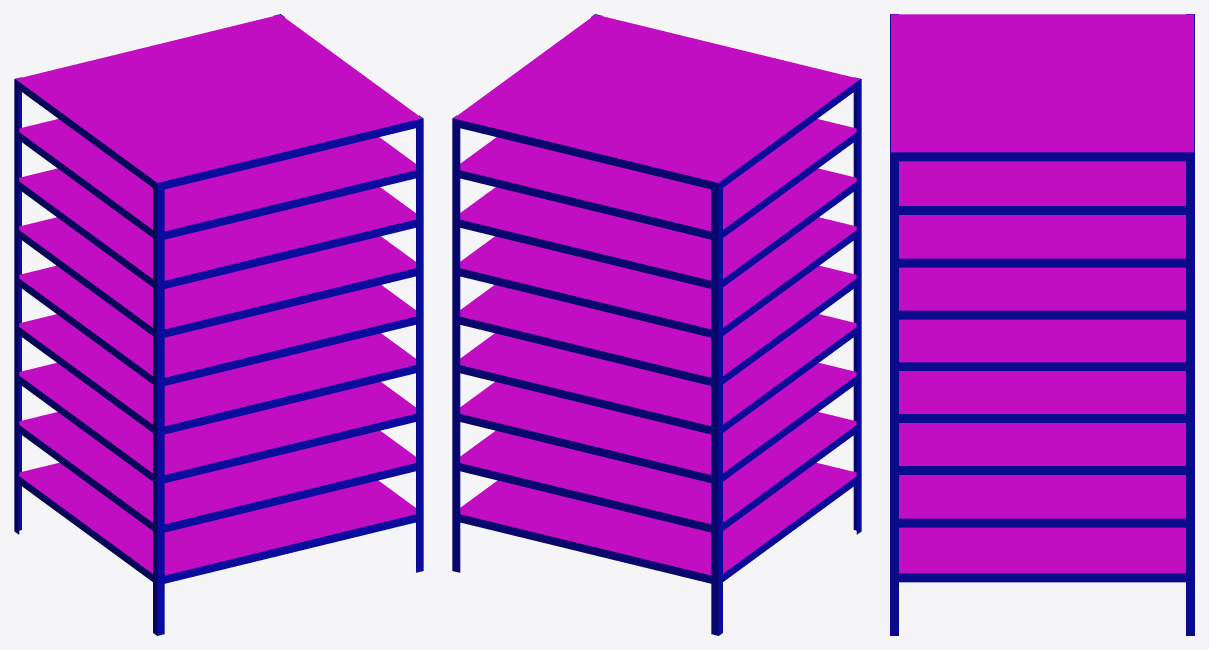
The model's file is SheetMetalShelf.fbx.
3 views of the same model, side by side, from view 1: azimuth 30°, elevation 25°; view 2: azimuth 150°, elevation 25°; view 3: azimuth 270°, elevation 25° (orthographic). The views are drawn at different scales.
Parts seen in each view (by area): view 1: SheetMetalShelf; view 2: SheetMetalShelf; view 3: SheetMetalShelf.
Part boxes in pixels (<box>): SheetMetalShelf: <box>14,14,423,635</box>; SheetMetalShelf: <box>452,14,861,635</box>; SheetMetalShelf: <box>890,14,1194,635</box>.
Size of the model in its own units: 4.62 by 7.49 by 4.29.
